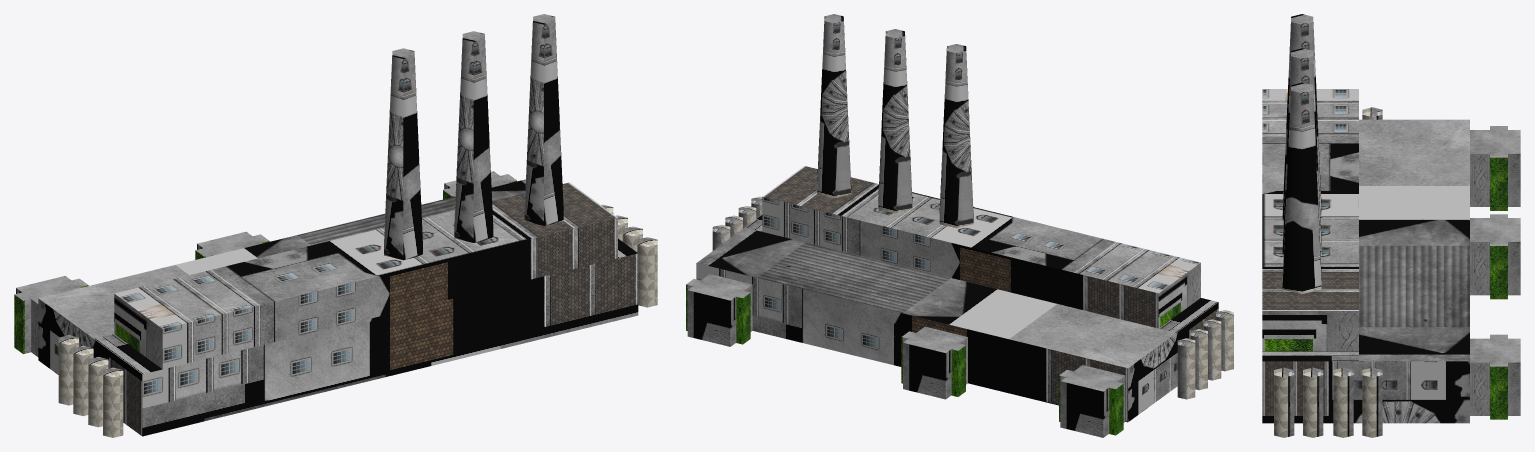
3 renders of one model, left to right at view 1: azimuth 30°, elevation 25°; view 2: azimuth 150°, elevation 25°; view 3: azimuth 270°, elevation 25°, orthographic. The views are drawn at different scales.
Parts seen in each view (by area): view 1: base_12; view 2: base_12; view 3: base_12.
Part boxes in pixels (bbox=[...]): base_12: bbox=[14, 14, 657, 437]; base_12: bbox=[686, 14, 1233, 437]; base_12: bbox=[1262, 14, 1520, 437].
Bounding box in the file's own units: 247 × 128 × 99.83.
